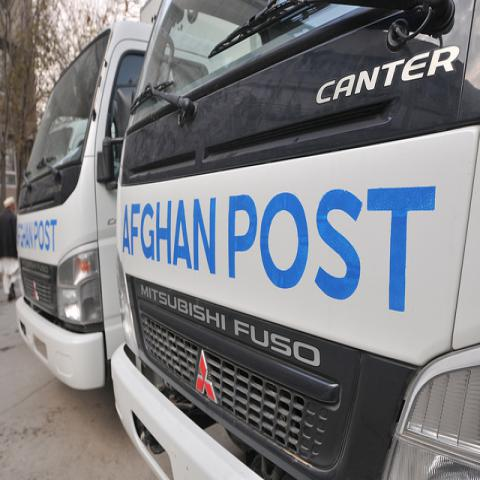truck: (109, 2, 478, 473), (16, 5, 155, 391)
